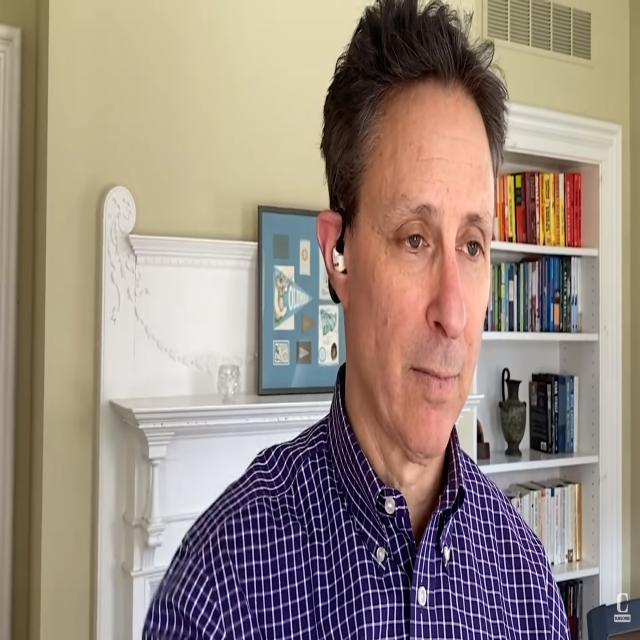airpods: (324, 202, 347, 306)
